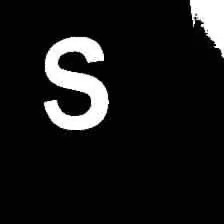LTR_S: (35, 28, 114, 139)
